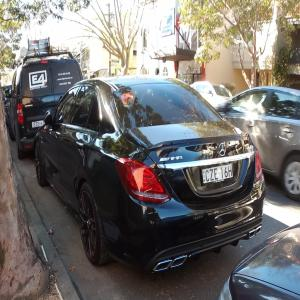Vehicle-registration-plate: (201, 164, 234, 187), (33, 122, 47, 133)
